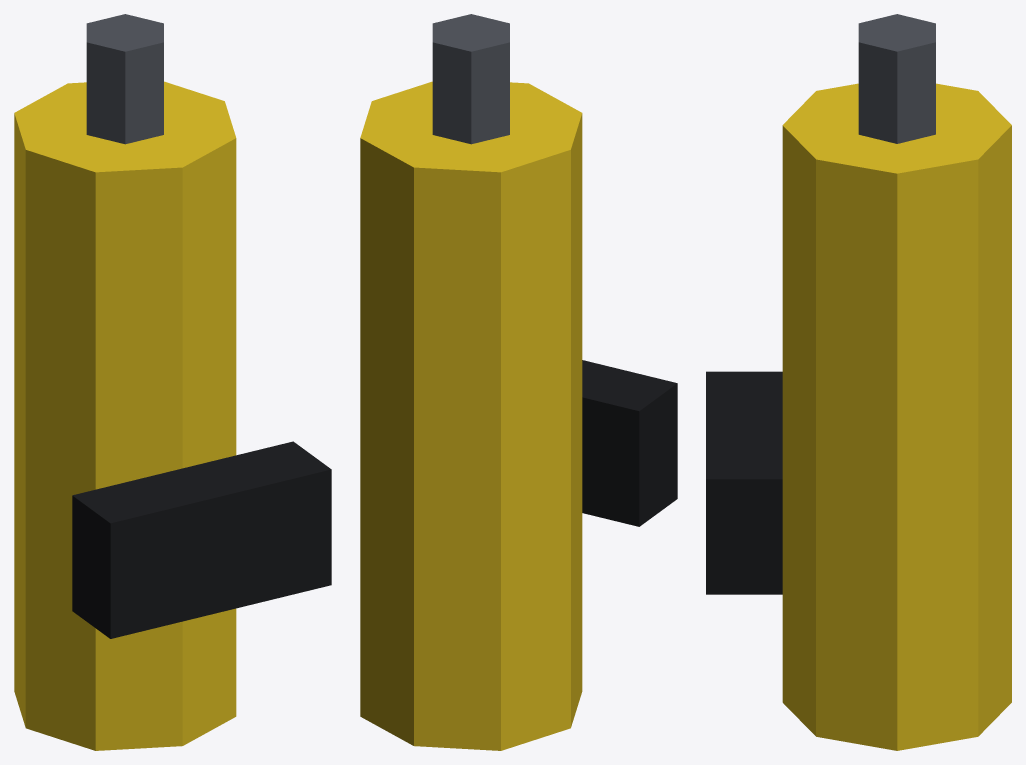
Rendered from pk_scuba.glb.
3 renders of one model, left to right at view 1: azimuth 30°, elevation 25°; view 2: azimuth 150°, elevation 25°; view 3: azimuth 270°, elevation 25°, orthographic.
Visible parts, largest first — view 1: pk_scuba; view 2: pk_scuba; view 3: pk_scuba.
Boxes of the visible parts, x1=… form: pk_scuba: x1=14, y1=14, x2=331, y2=750; pk_scuba: x1=360, y1=14, x2=677, y2=750; pk_scuba: x1=706, y1=14, x2=1011, y2=750.
Bounding box in the file's own units: 0.2 × 0.58 × 0.24.
